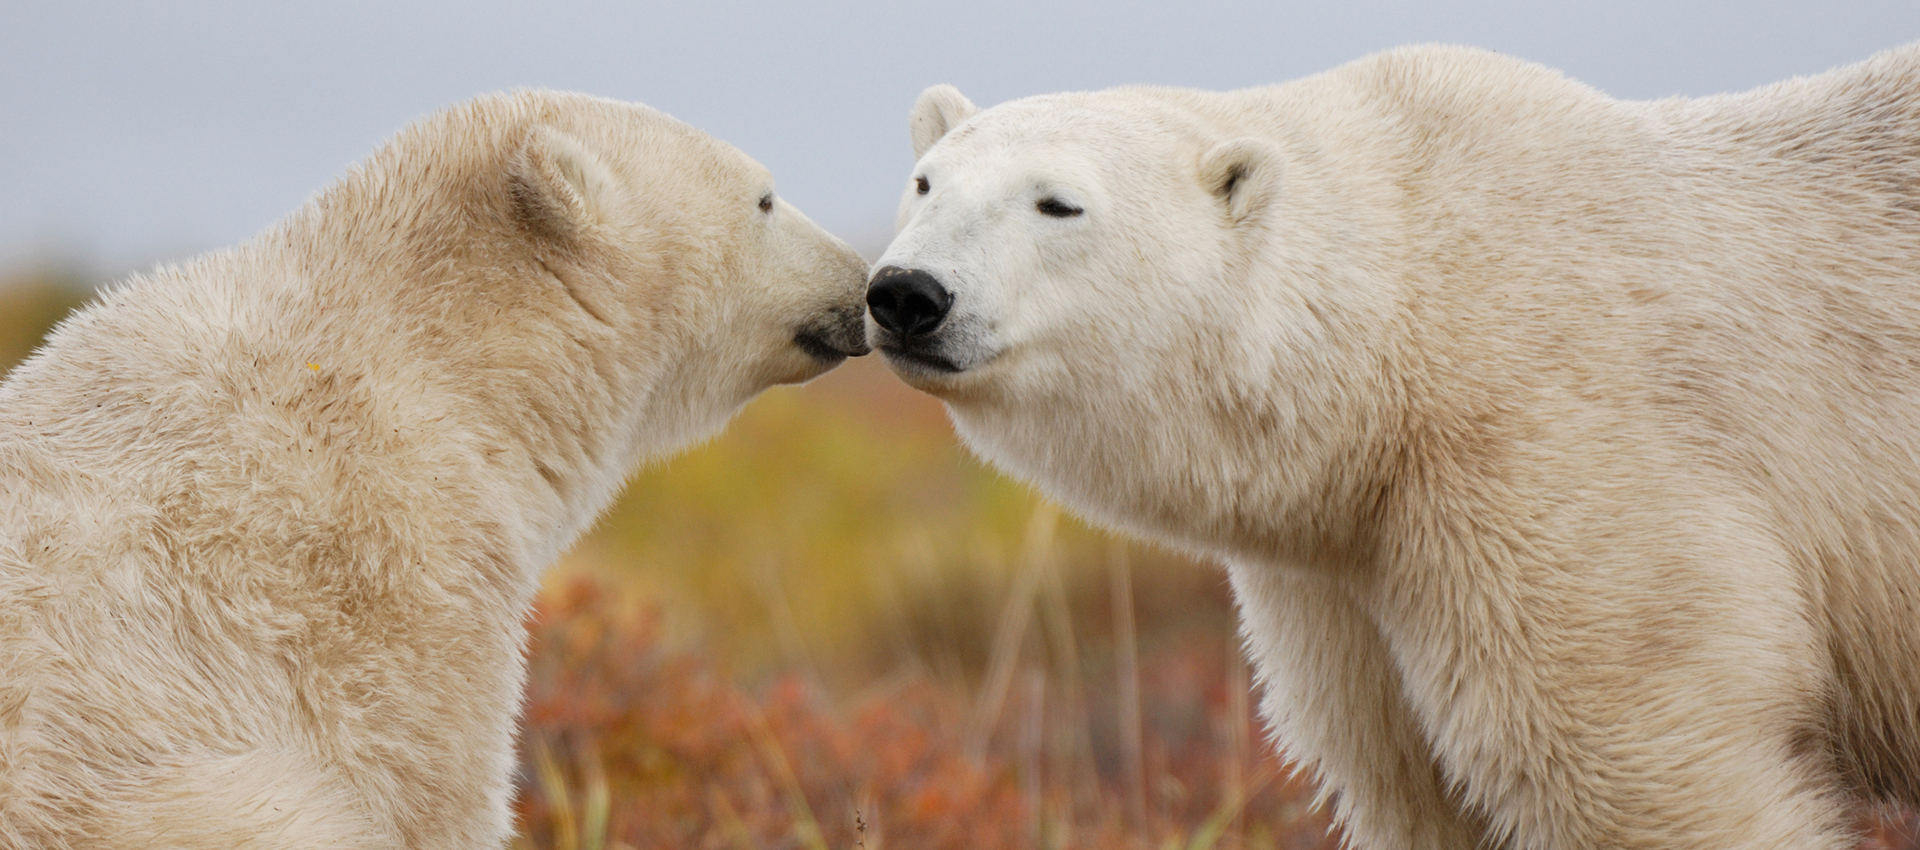Polar Bear: (852, 42, 1920, 848), (15, 49, 856, 829)
